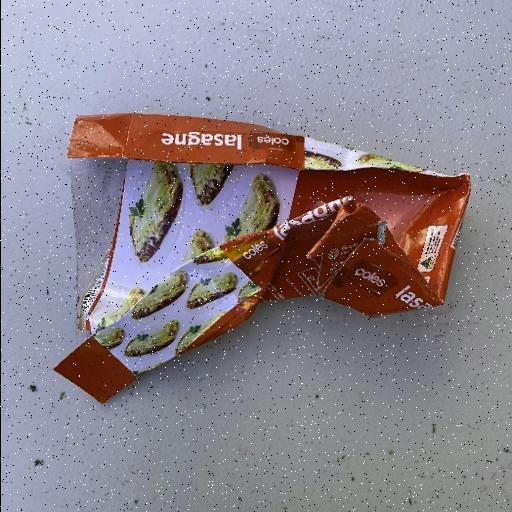Cardboard: (54, 110, 472, 406)
